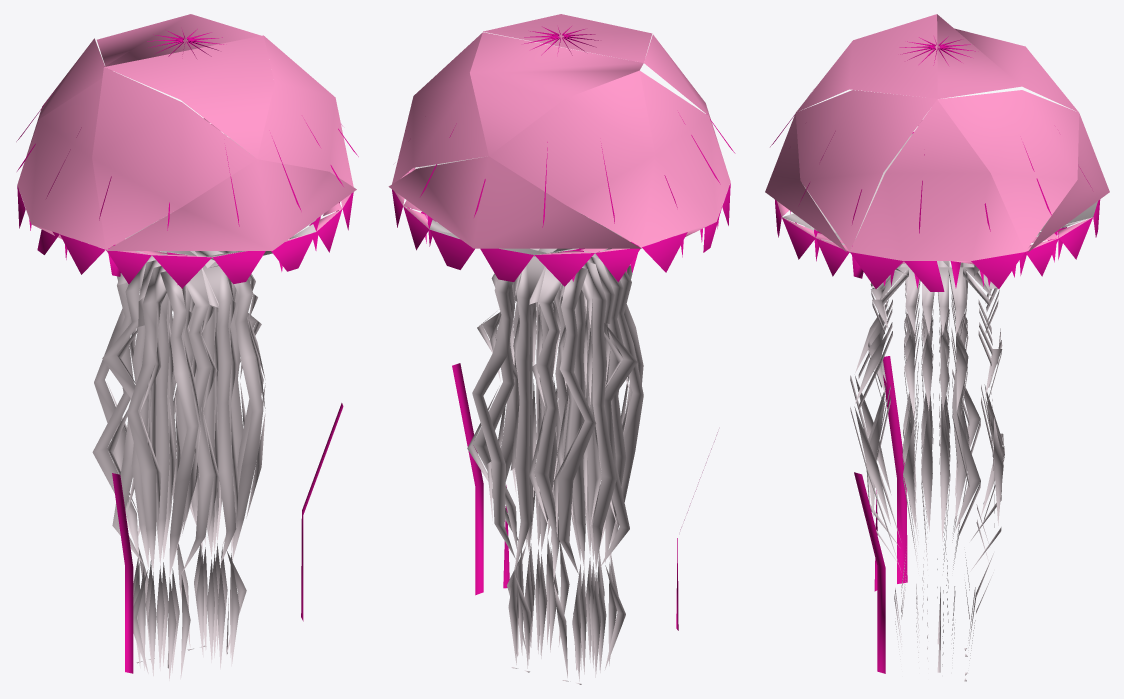
The model's file is sea_jelly.glb.
3 views of the same model, side by side, from view 1: azimuth 30°, elevation 25°; view 2: azimuth 150°, elevation 25°; view 3: azimuth 270°, elevation 25° (orthographic).
Parts seen in each view (by area): view 1: Null.1; view 2: Null.1; view 3: Null.1.
Part boxes in pixels (box(x1,y1,x2,y2)): Null.1: box(16, 14, 358, 680); Null.1: box(388, 14, 735, 684); Null.1: box(765, 14, 1109, 681).
Size of the model in its own units: 209 by 410 by 207.
